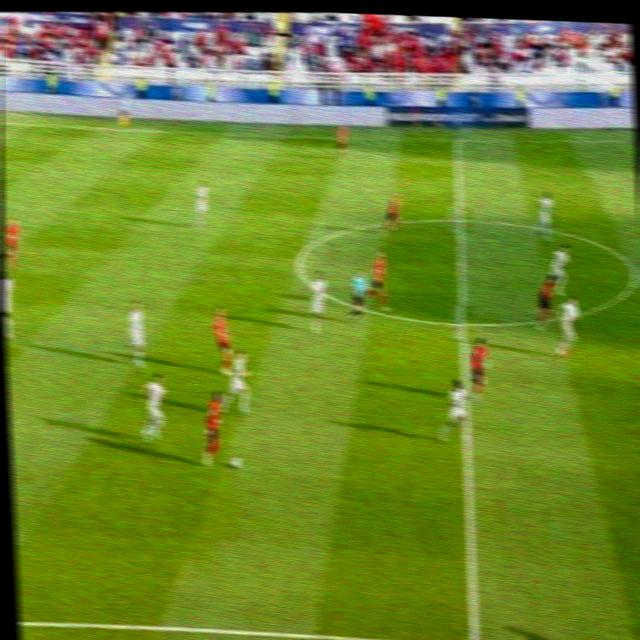halfcircle_bottom: (449, 304, 475, 340)
halfcircle_top: (447, 205, 473, 233)
midline_bottom_intersection: (454, 623, 491, 640)
midline_top_intersection: (447, 129, 465, 149)
